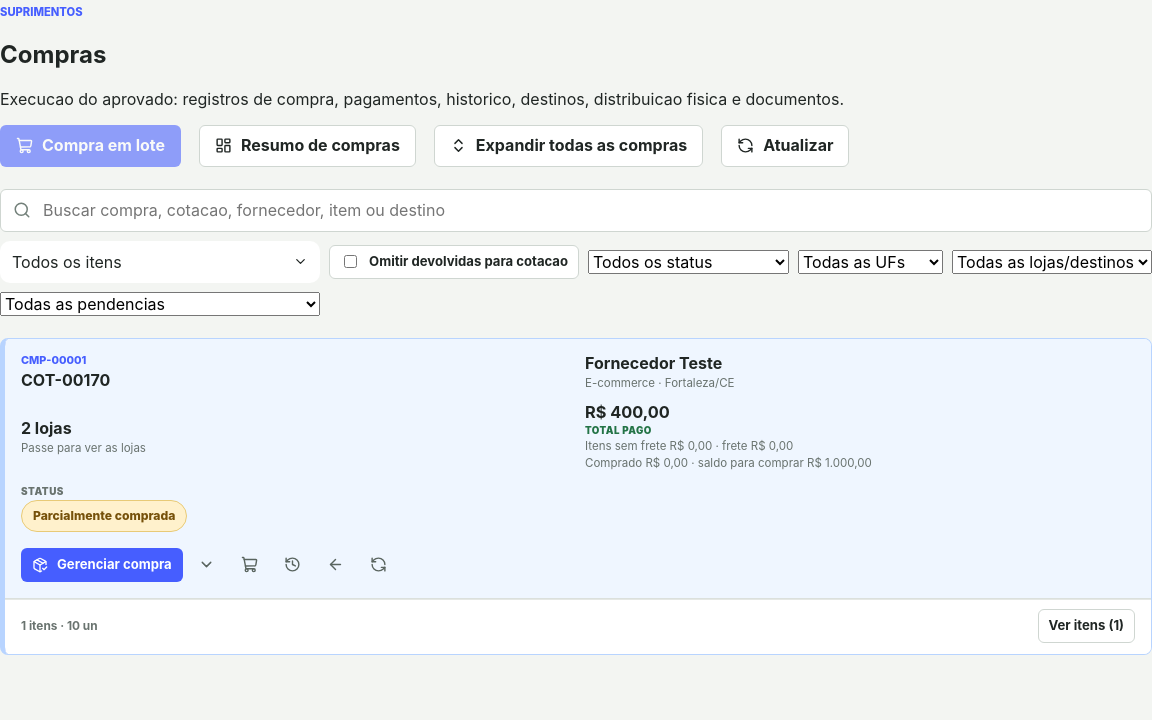
SupplyPurchasesPage V2 › exibe historico cancelado sem apagar o registro
The width and height of the screenshot is (1152, 720).
Expected: the text "CMP-00001" is shown, [21,353,86,367]
Step 1. Click the button named "Historico CMP-00001" → (293, 564), box [274,546,312,584]
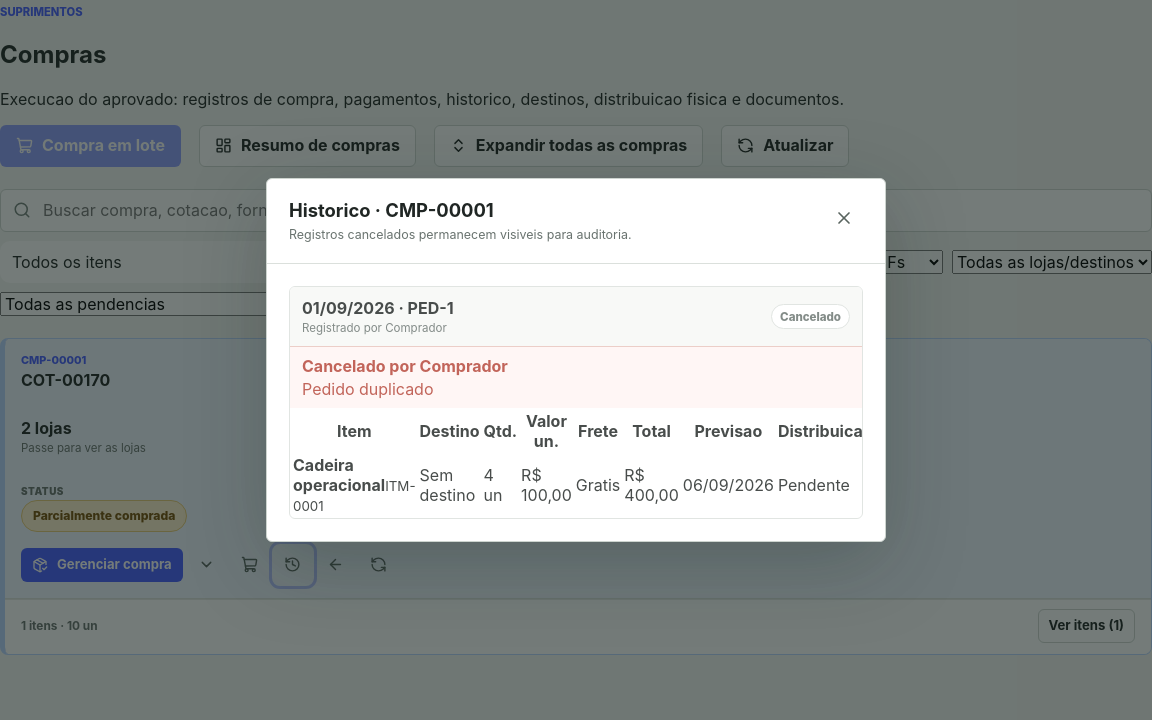
Expected: the text "Pedido duplicado" is shown, [302,379,434,399]
Expected: the text "Cancelado por Comprador" is shown, [302,356,508,376]
